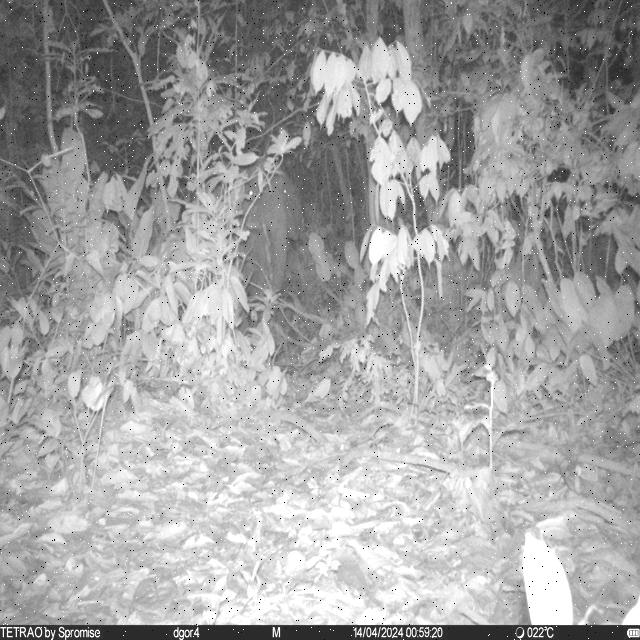elephant: (238, 160, 302, 307)
